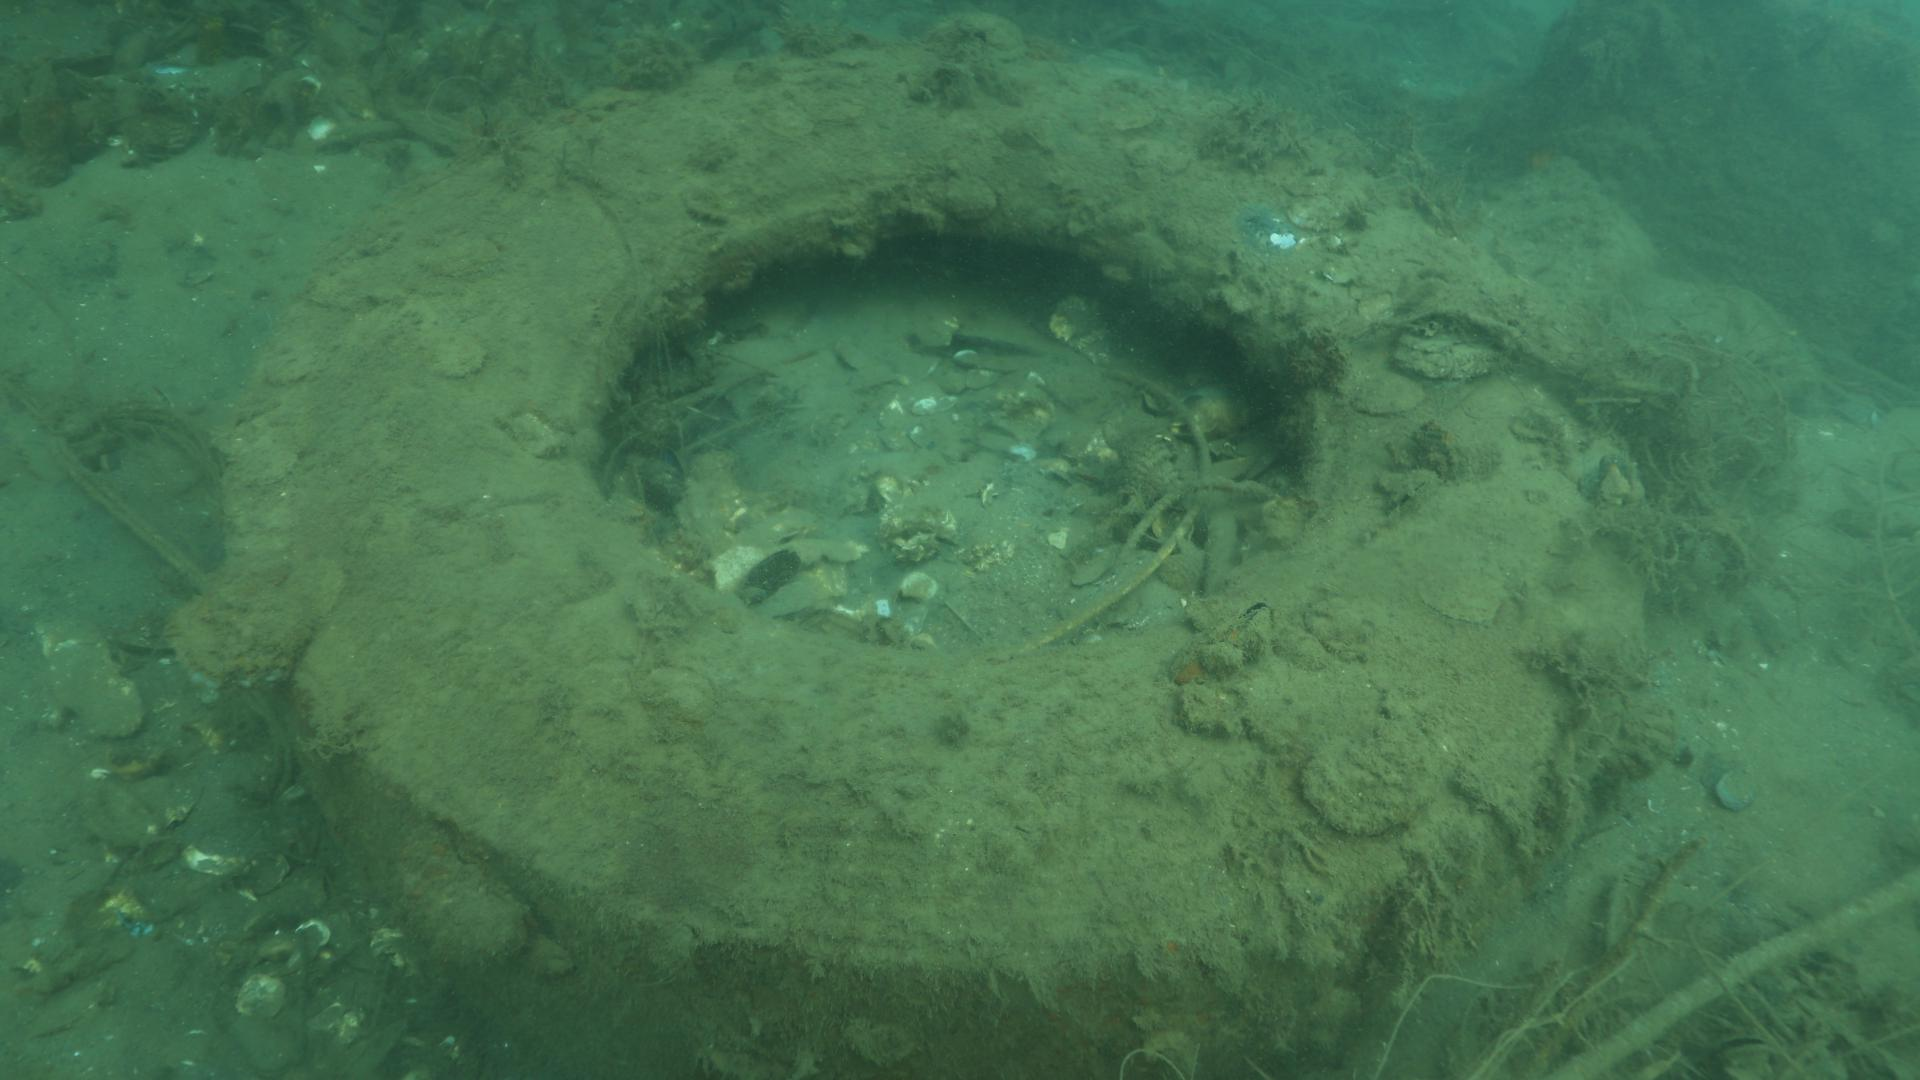tire: (215, 42, 1648, 1080)
